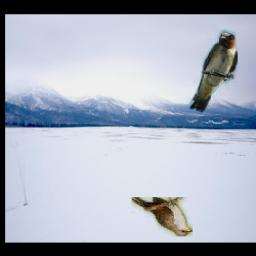Cuckoo: (131, 197, 193, 236)
Swallow: (186, 30, 238, 113)
